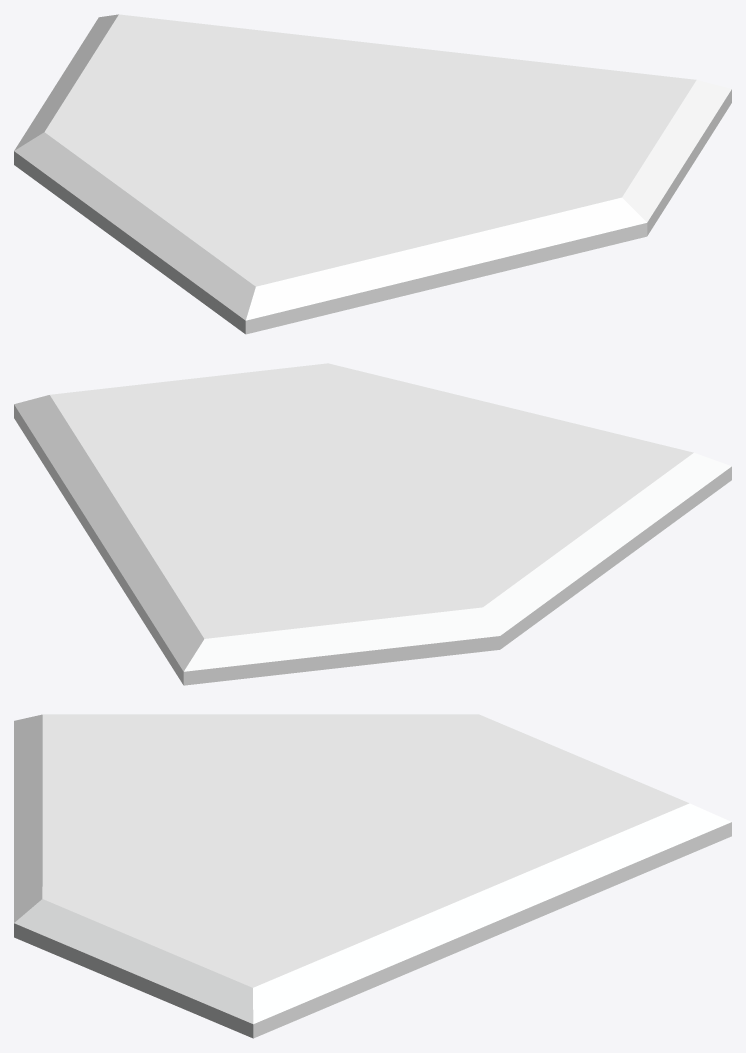
Rendered from ac8f1279-9503-4ddc-b812-d6f141e2d5b6.glb.
3 views of the same model, one above another, from view 1: azimuth 30°, elevation 25°; view 2: azimuth 150°, elevation 25°; view 3: azimuth 270°, elevation 25° (orthographic). The views are drawn at different scales.
Parts seen in each view (by area): view 1: BaseballHomePlate; view 2: BaseballHomePlate; view 3: BaseballHomePlate.
Part boxes in pixels (x1,y1,x2,y2): BaseballHomePlate: [14, 14, 731, 334]; BaseballHomePlate: [14, 363, 731, 685]; BaseballHomePlate: [14, 714, 731, 1038].
Size of what is drawn, in the model's own units: 0.5236 by 0.0264 by 0.5236.
1 material, 1 textured.
